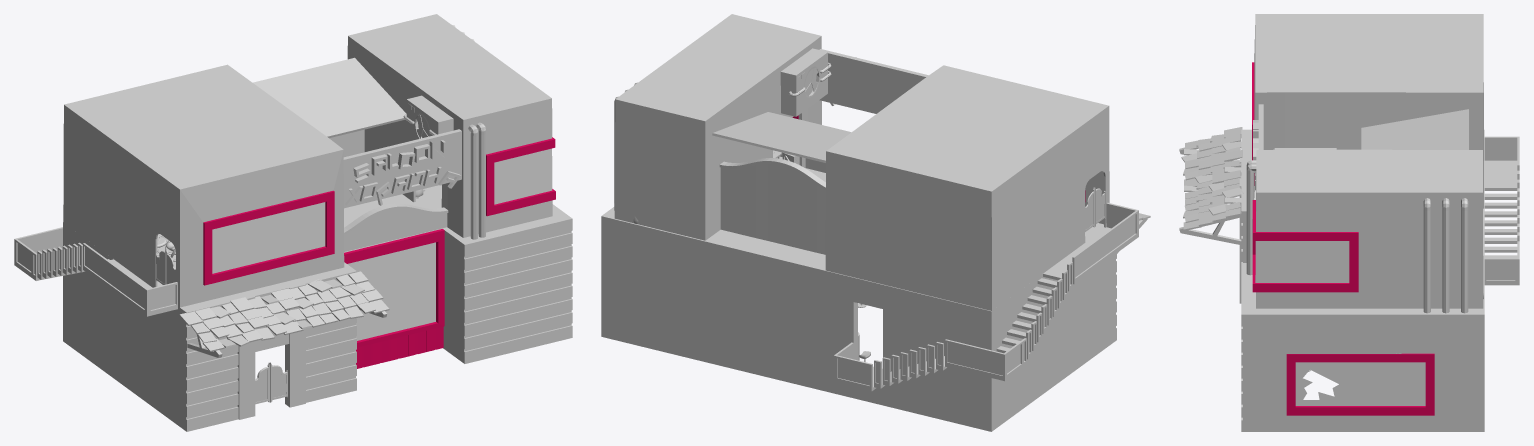
Rendered from SALOON_V4.fbx.
3 renders of one model, left to right at view 1: azimuth 30°, elevation 25°; view 2: azimuth 150°, elevation 25°; view 3: azimuth 270°, elevation 25°, orthographic. The views are drawn at different scales.
Parts seen in each view (by area): view 1: segundo andar, primeiro andar, parte vidro, JANELA, telha, Plane, escada.001, janela canto, placa superior, guarda corpo, Cylinder, neg vento (+4 smaller); view 2: segundo andar, primeiro andar, escada.001, guarda corpo, placa superior, Plane, neg vento, escada; view 3: segundo andar, primeiro andar, JANELA.002, janela canto, telha, Plane, escada, Cylinder.001, escada.001, Cylinder, suporte.
Part boxes in pixels (box(x1,y1,x2,y2)): segundo andar: box(63, 14, 552, 307); primeiro andar: box(63, 185, 572, 431); parte vidro: box(344, 229, 444, 368); JANELA: box(203, 190, 334, 285); telha: box(179, 271, 389, 351); Plane: box(253, 57, 406, 138); escada.001: box(14, 227, 177, 316); janela canto: box(486, 137, 555, 216); placa superior: box(343, 129, 461, 208); guarda corpo: box(329, 129, 448, 251); Cylinder: box(468, 122, 485, 239); neg vento: box(403, 95, 453, 141); segundo andar: box(614, 14, 1109, 310); primeiro andar: box(601, 156, 1116, 431); escada.001: box(833, 202, 1138, 391); guarda corpo: box(719, 158, 825, 254); placa superior: box(819, 49, 928, 113); Plane: box(712, 112, 851, 162); neg vento: box(780, 48, 831, 116); escada: box(873, 227, 1110, 390); segundo andar: box(1254, 14, 1483, 308); primeiro andar: box(1239, 129, 1484, 431); JANELA.002: box(1286, 353, 1434, 415); janela canto: box(1252, 200, 1358, 292); telha: box(1181, 127, 1243, 230); Plane: box(1361, 109, 1469, 149); escada: box(1484, 160, 1517, 258); Cylinder.001: box(1423, 198, 1468, 313); escada.001: box(1484, 136, 1519, 285); Cylinder: box(1246, 160, 1256, 275); suporte: box(1179, 136, 1241, 244).
Size of the model in its own units: 2757 by 1498 by 1980.
